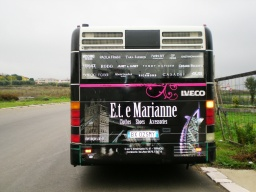bus: (65, 16, 219, 173)
